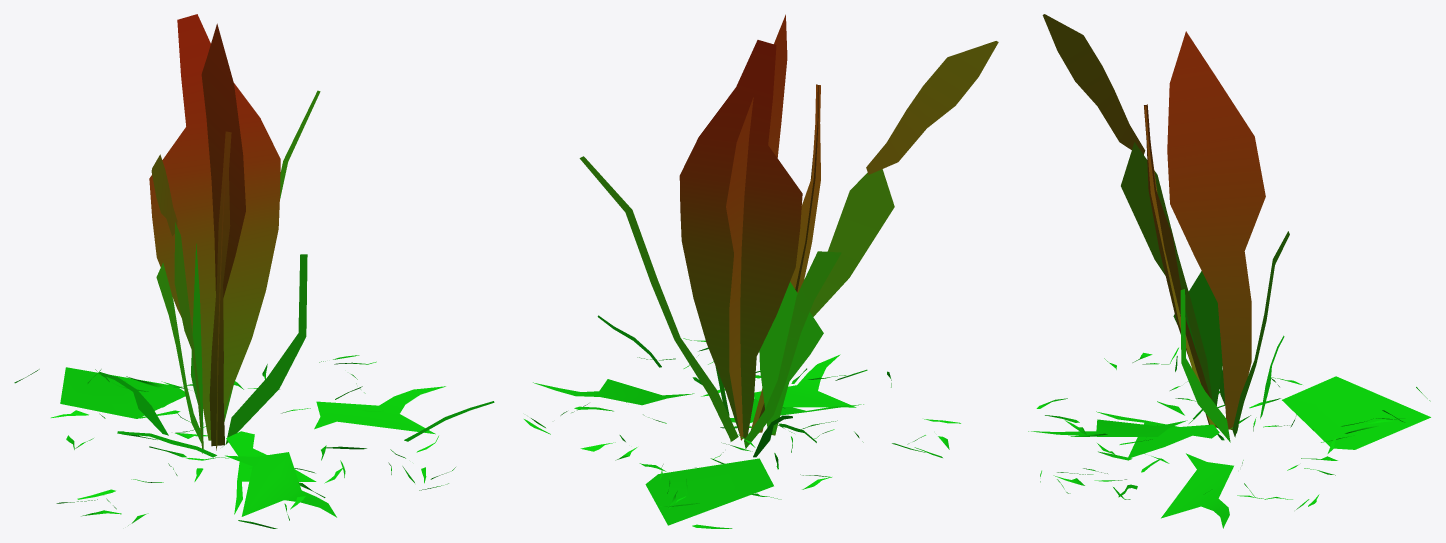
File: Dead Shrubs_LOD0_Var11_vdknafgha.fbx
3 views of the same model, side by side, from view 1: azimuth 30°, elevation 25°; view 2: azimuth 150°, elevation 25°; view 3: azimuth 270°, elevation 25° (orthographic). The views are drawn at different scales.
Parts seen in each view (by area): view 1: _yamg_Var11_LOD0; view 2: _yamg_Var11_LOD0; view 3: _yamg_Var11_LOD0.
Boxes of the visible parts, x1=… form: _yamg_Var11_LOD0: x1=14, y1=14, x2=494, y2=528; _yamg_Var11_LOD0: x1=524, y1=14, x2=998, y2=528; _yamg_Var11_LOD0: x1=1028, y1=14, x2=1430, y2=528.
Bounding box in the file's own units: 26.71 × 27.65 × 25.35.
